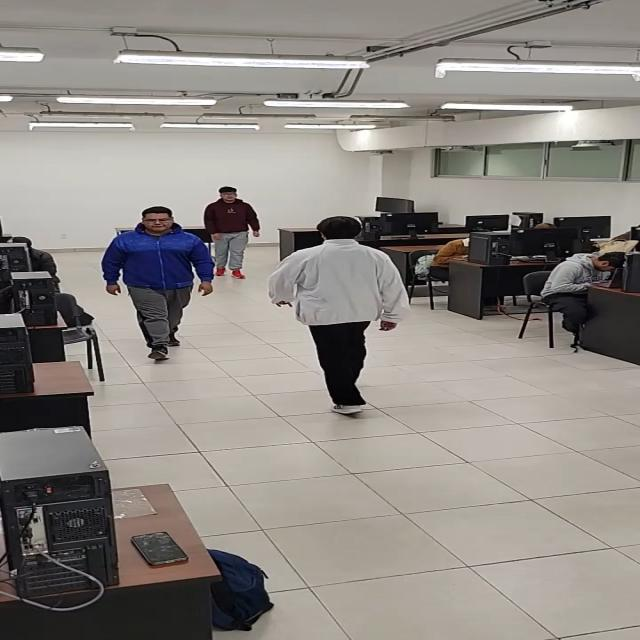Persona: (279, 216, 406, 414), (94, 208, 212, 360), (208, 187, 262, 279)
